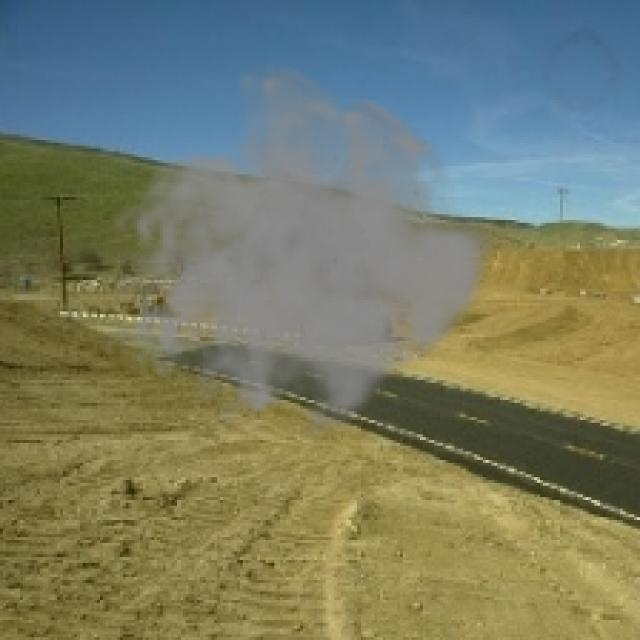smoke: (109, 57, 497, 452)
